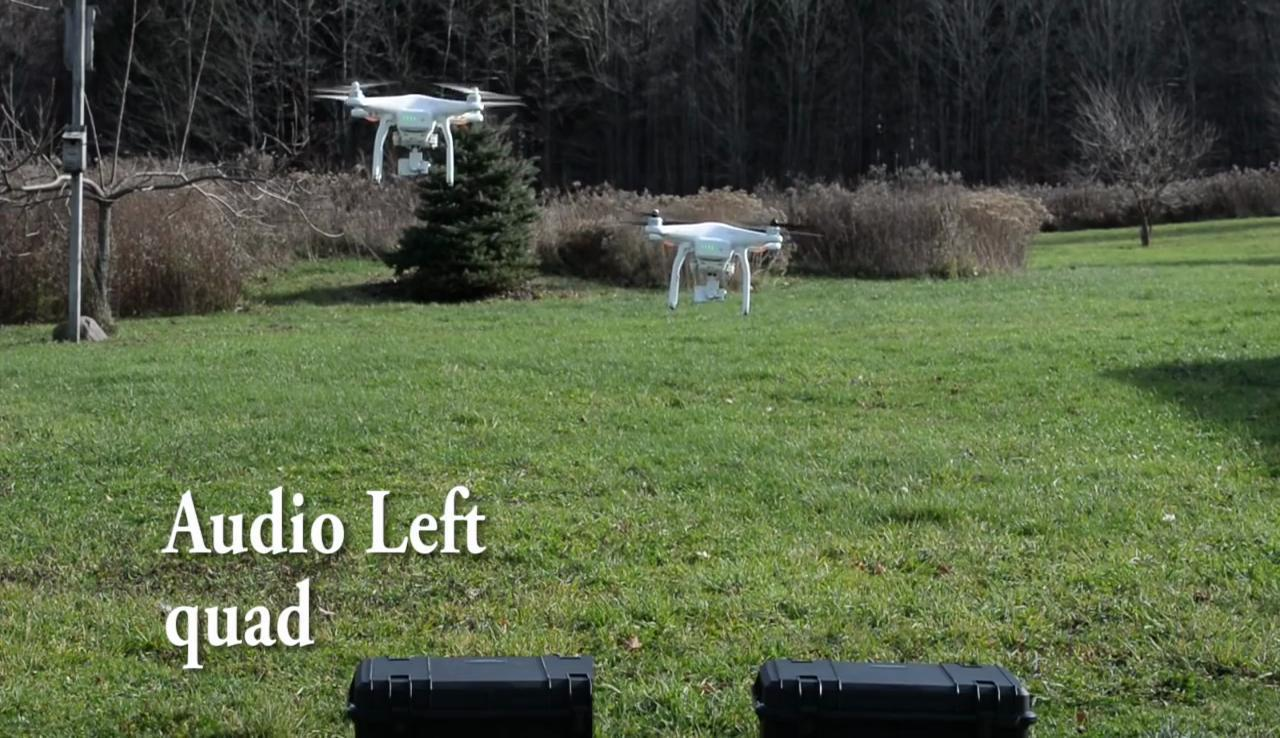drone: (314, 72, 507, 188), (638, 199, 796, 310)
